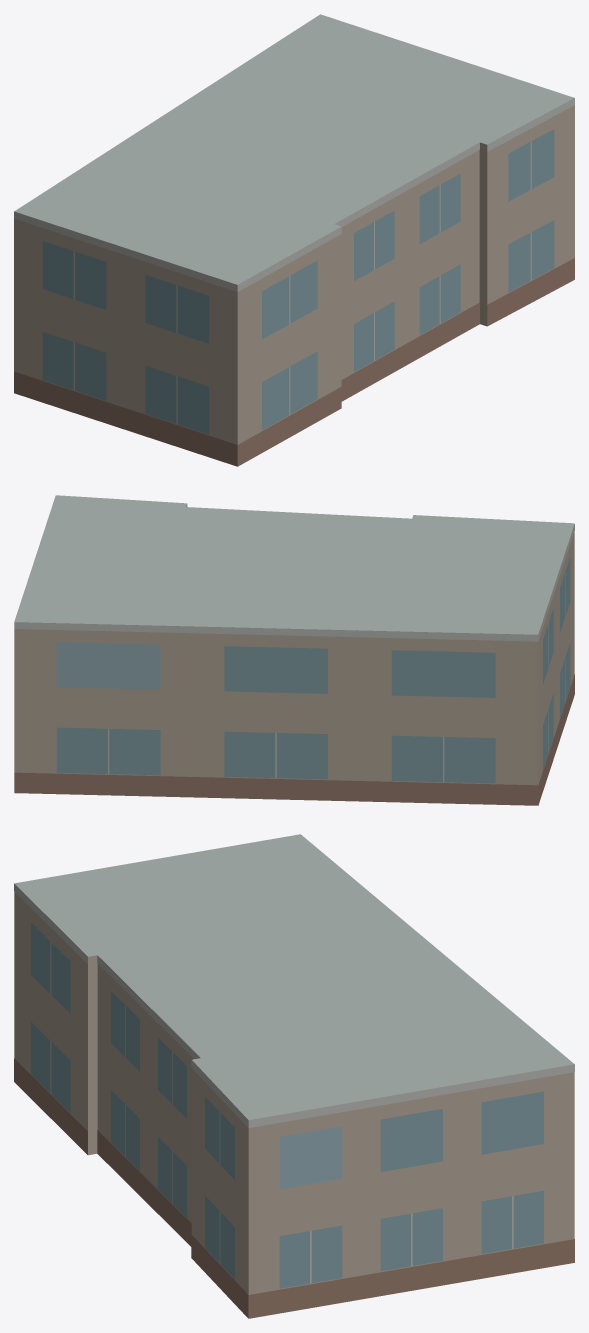
Rendered from survey-upis-32818891.glb.
The picture shows the model from 3 angles, top to bottom: view 1: azimuth 30°, elevation 25°; view 2: azimuth 150°, elevation 25°; view 3: azimuth 270°, elevation 25°; orthographic projection. The views are drawn at different scales.
Parts seen in each view (by area): view 1: survey-upis-32818891.tmp; view 2: survey-upis-32818891.tmp; view 3: survey-upis-32818891.tmp.
Boxes of the visible parts, x1,y1,x2,y2 form: survey-upis-32818891.tmp: (14, 14, 574, 466); survey-upis-32818891.tmp: (14, 495, 574, 805); survey-upis-32818891.tmp: (14, 834, 574, 1318).
Bounding box in the file's own units: 18.87 × 6.1 × 15.63.
